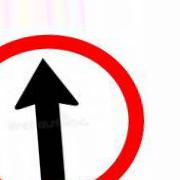forward: (1, 34, 143, 180)
